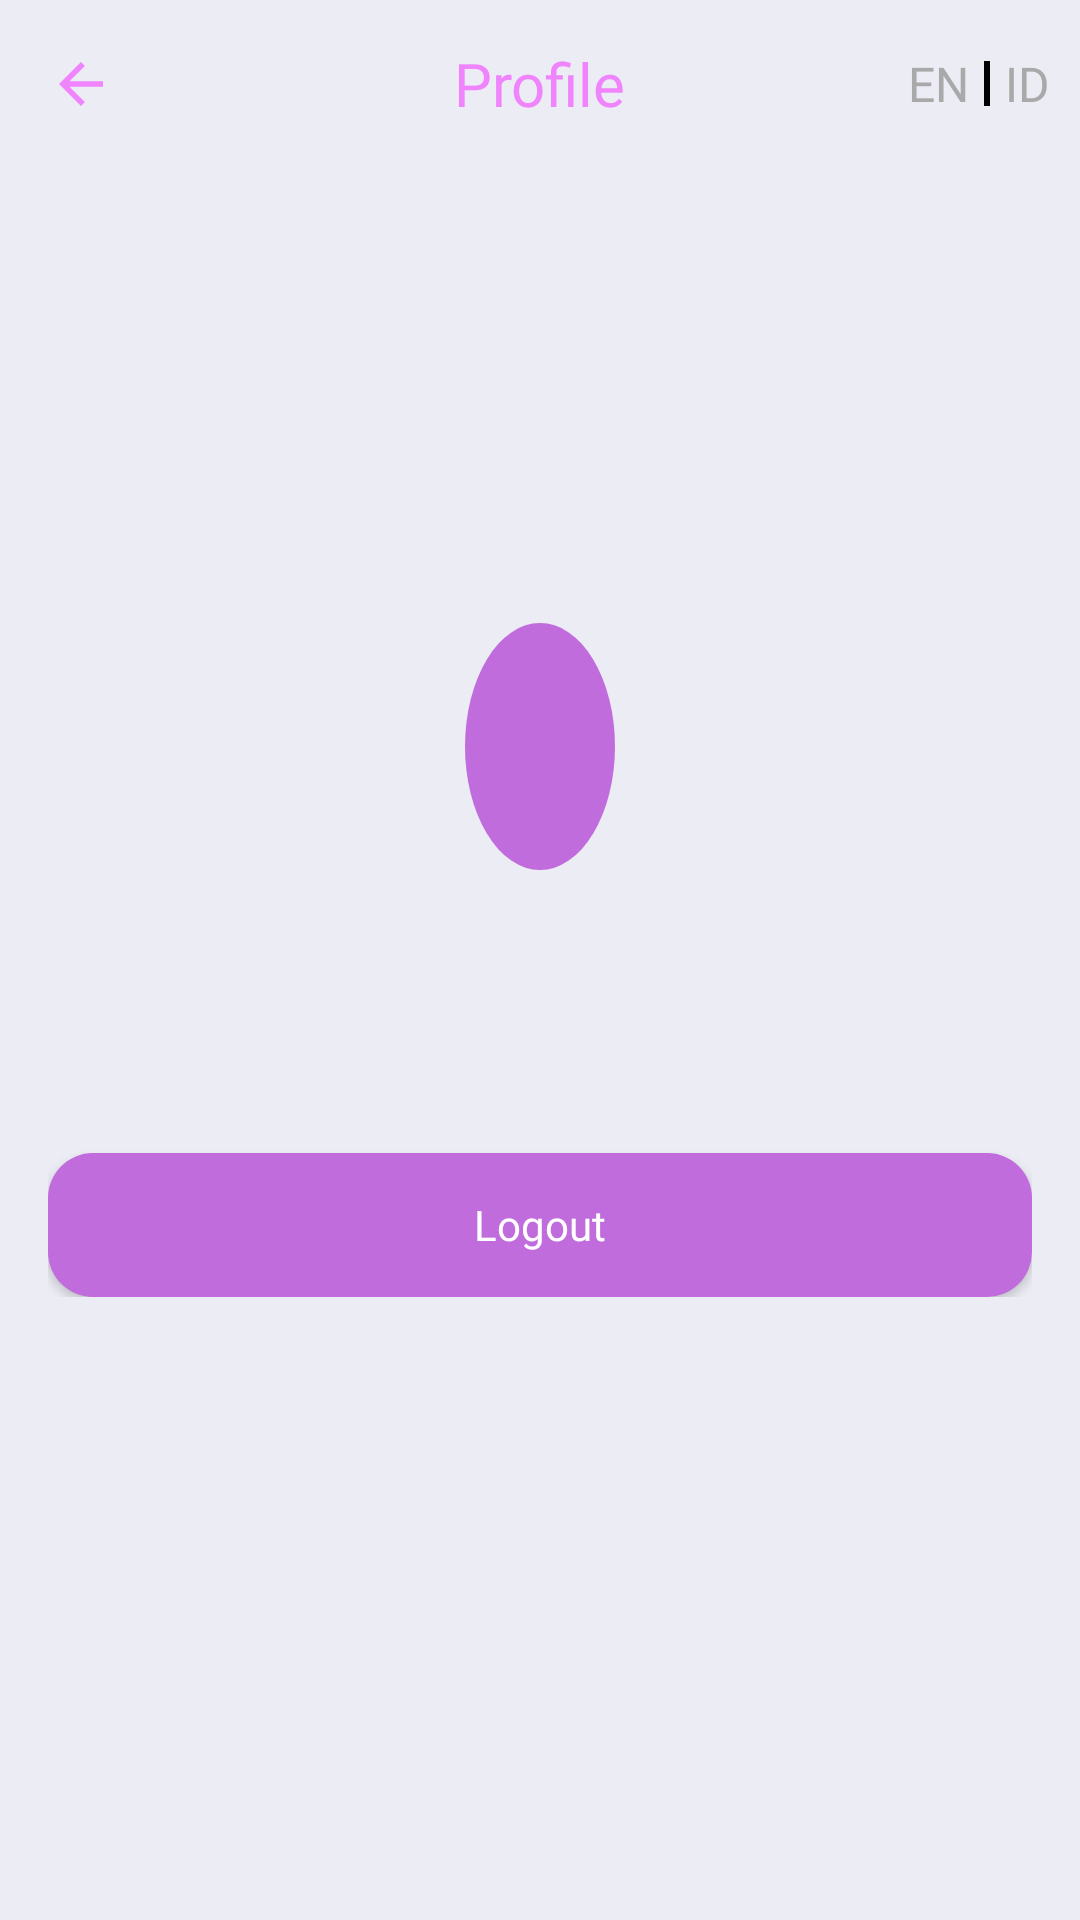

Icons on this 1080*1920 Android screen, each with the point to tap as (x=x, y=y):
arrow back: (x=81, y=84)
